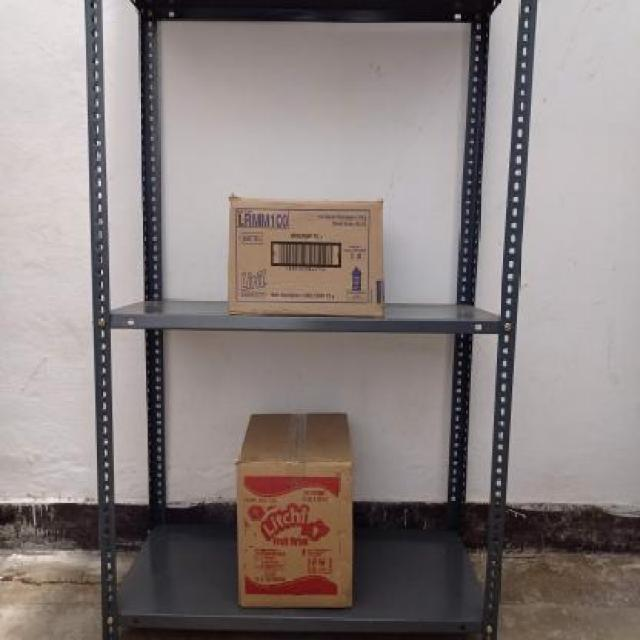box: (227, 196, 386, 318), (236, 459, 352, 607)
